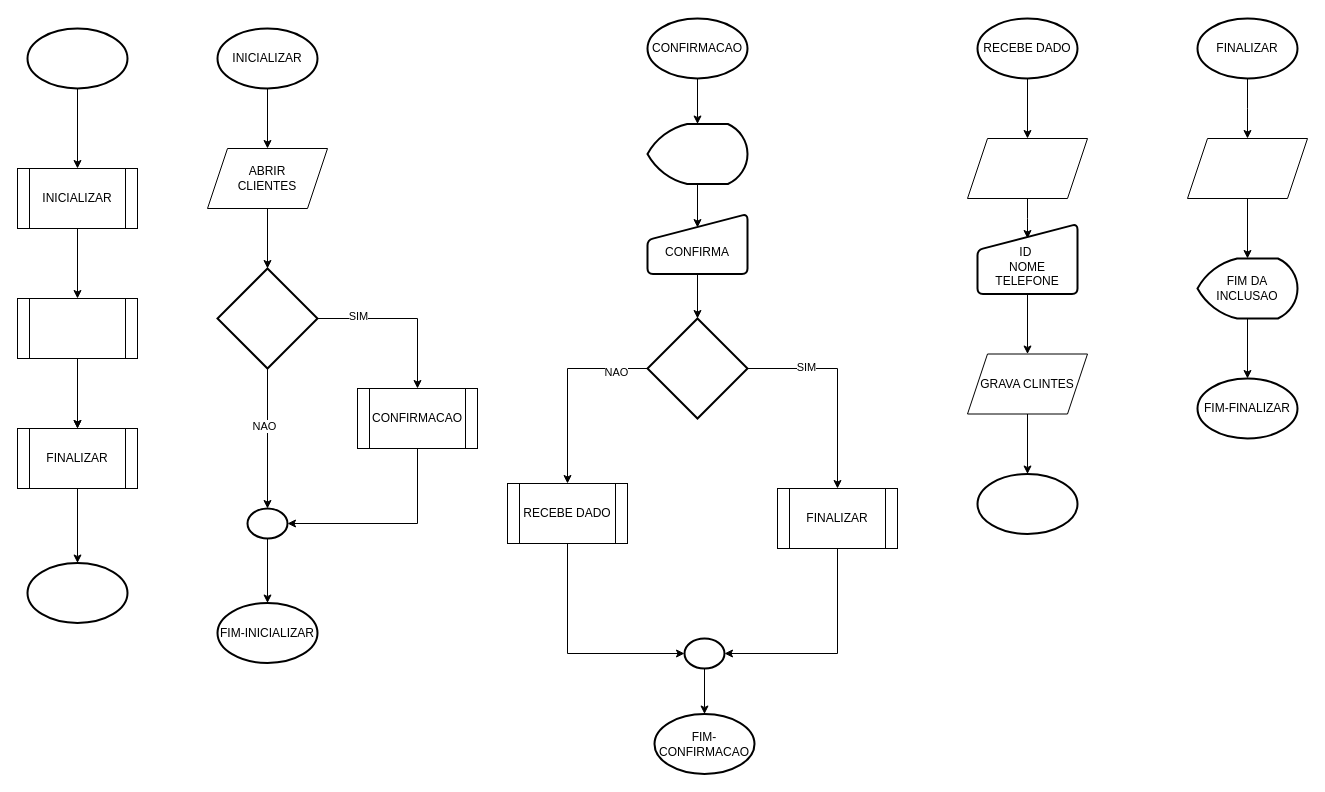
This 1325x792 diagram has some shape labels left out. The shapes that lost their labels are listed below. From the top down, each one's centre as x and y in pixels, then its label:
the point at 77,58: INICIO
the point at 697,153: 'DESEJA INCLUIR UM REGISTRO'
the point at 1027,168: (INCLUSAO) ID NOME TELEFONE
the point at 1247,168: FECHA CLIENTES
the point at 77,328: RECEBE DADOS
the point at 267,318: ARQ CLIENTES EXISTE
the point at 697,368: CONFIRMA = 'N'
the point at 1027,503: FIM-PROCESSAR
the point at 77,593: FIM
